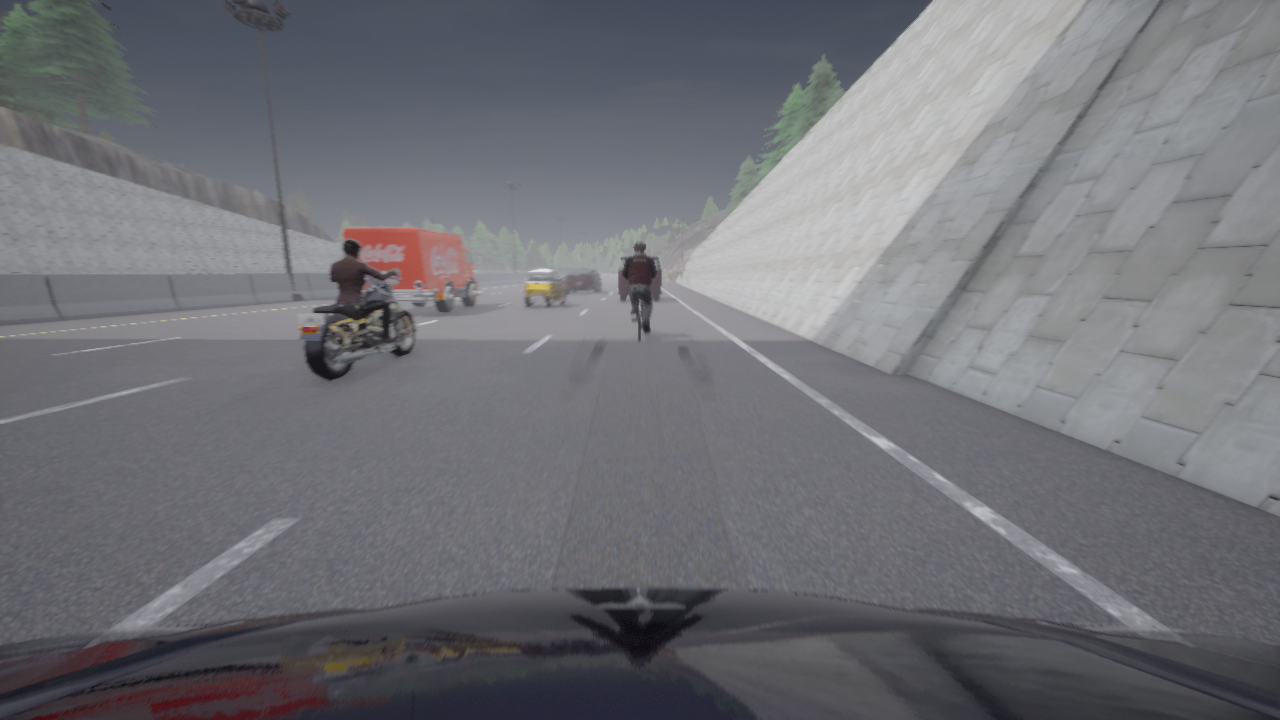cyclist: (0, 588, 1279, 719), (298, 269, 416, 380), (343, 227, 483, 312), (619, 255, 660, 301), (524, 269, 565, 308), (565, 268, 601, 293), (633, 295, 643, 340)
